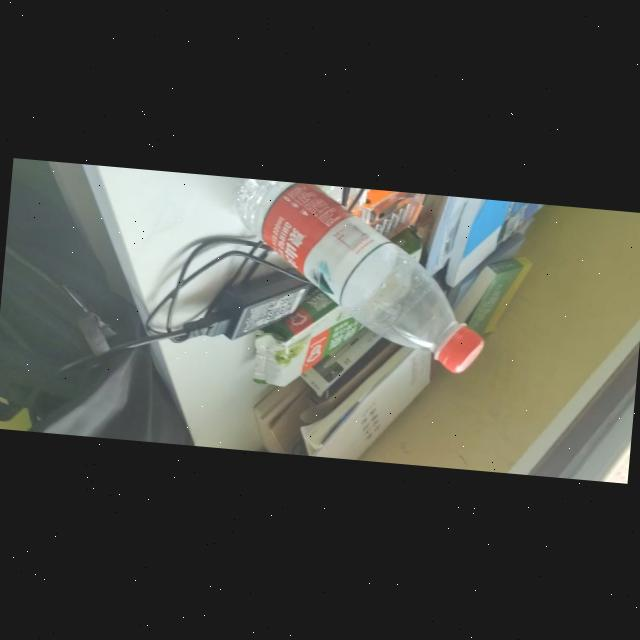trash: (222, 176, 500, 375)
